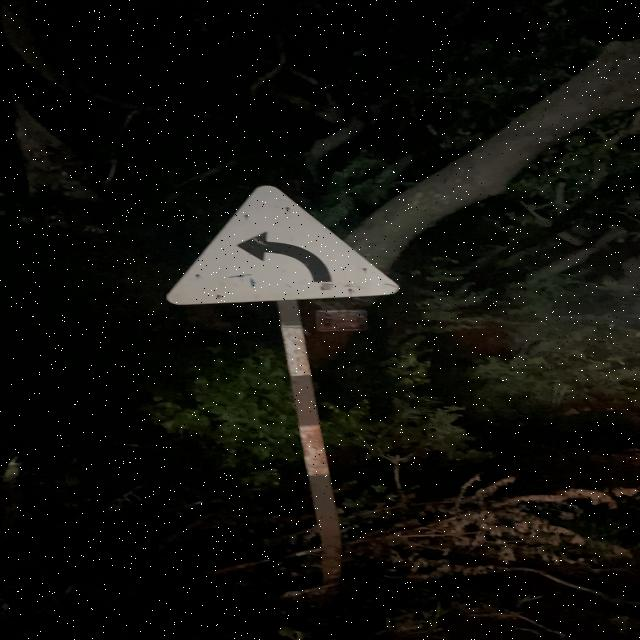left_hand_curve: (153, 186, 400, 311)
